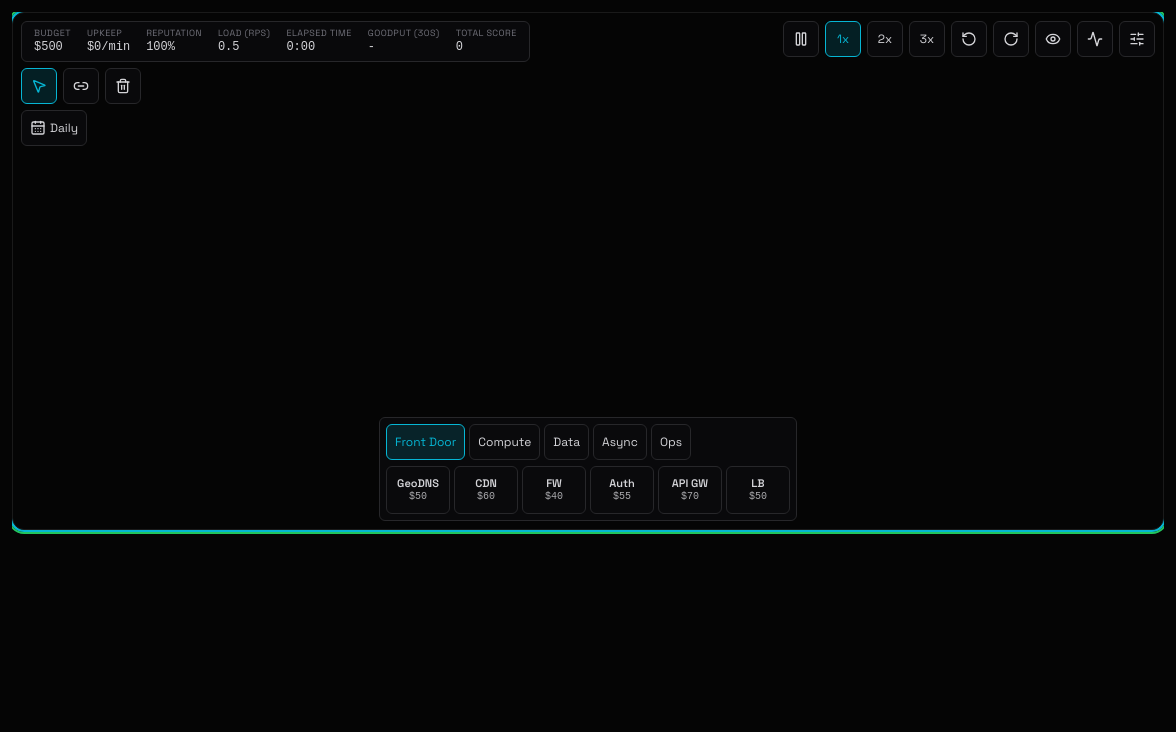
Test: Sandbox › starts from Settings with the Sandbox budget, labelled, and with no score
Click the button named "Settings" at (1137, 39), box [1119,21,1155,57]
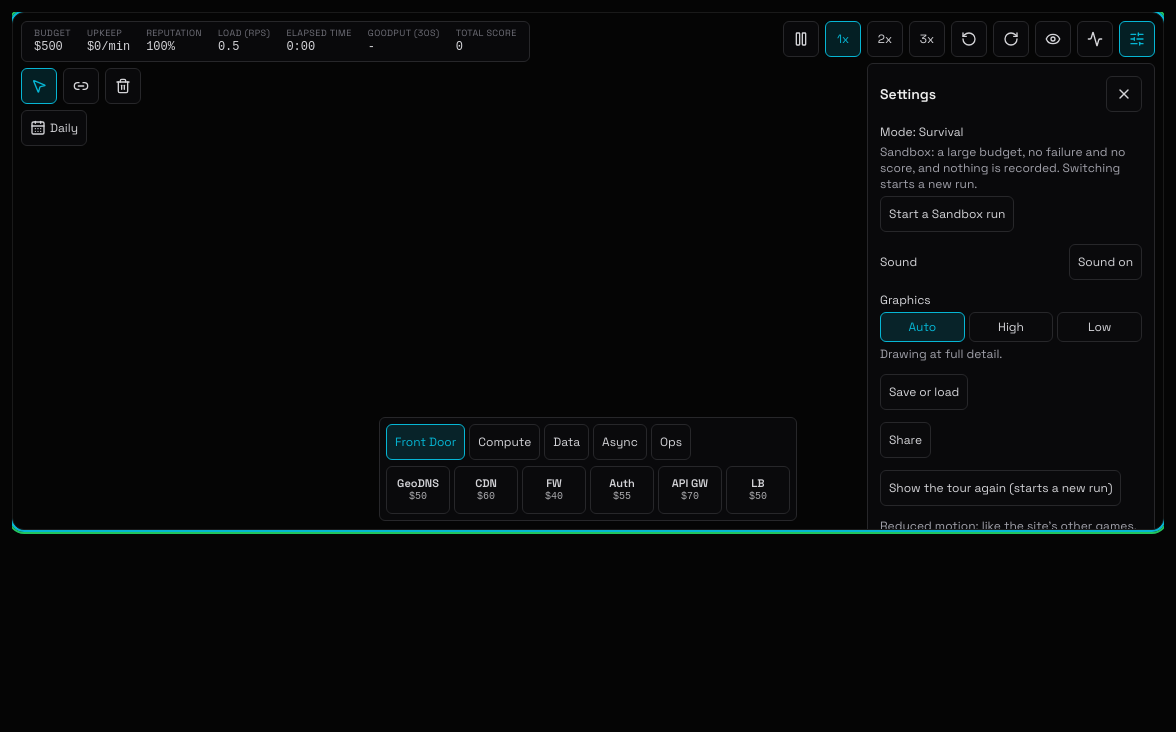
Click the button "Start a Sandbox run" at (947, 214), box [880,196,1014,232]
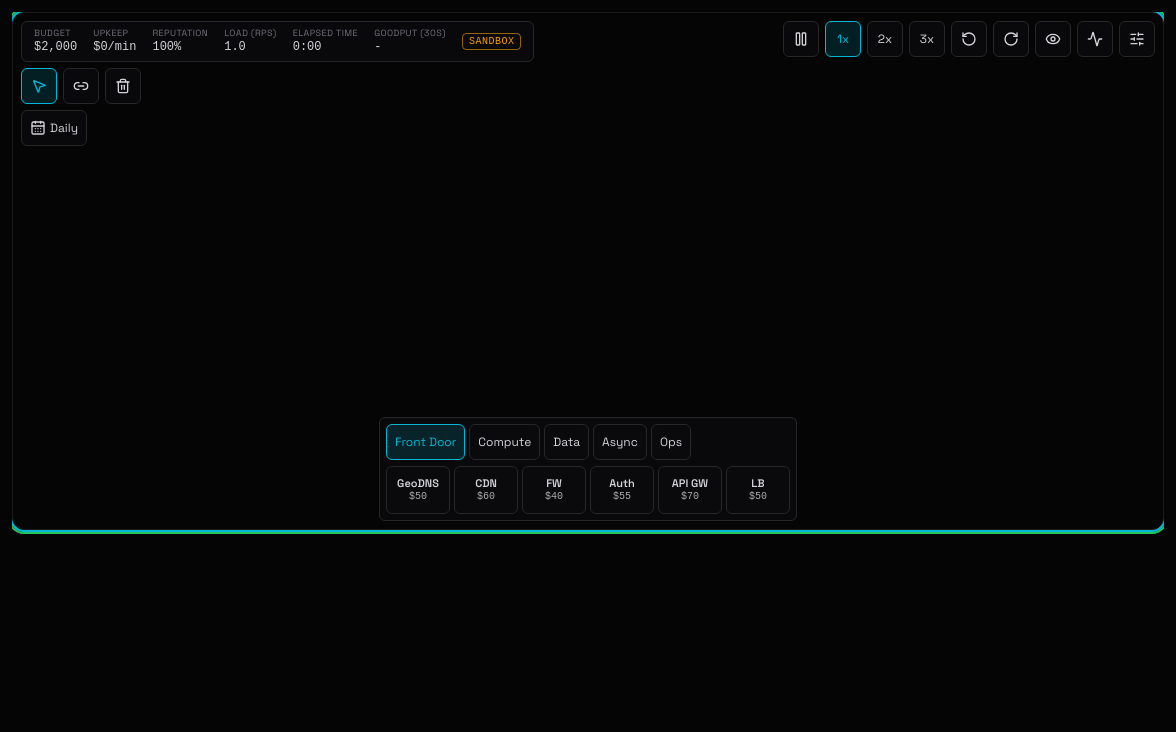
Expected: the text "SANDBOX" is shown, [462,33,522,50]
Expected: the heading "Settings" is gone
Expected: the text "TOTAL SCORE" is gone
Click the button named "Settings" at (1137, 39), box [1119,21,1155,57]
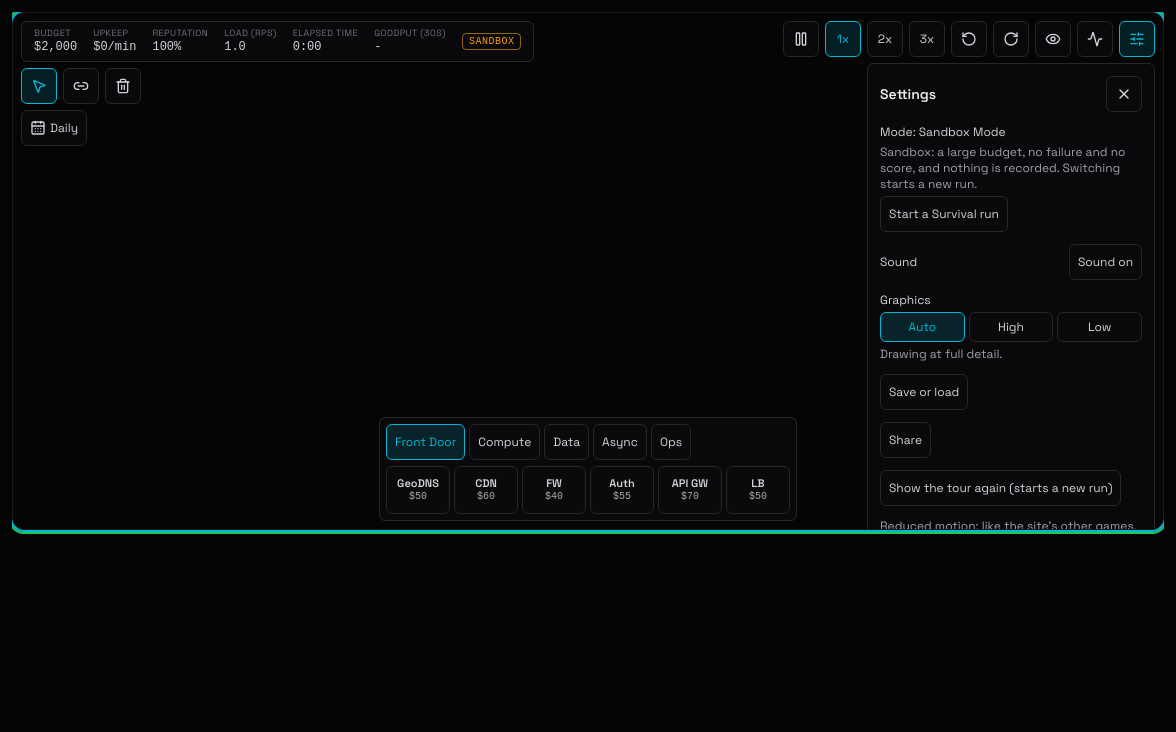
Click the button "Start a Survival run" at (944, 214), box [880,196,1008,232]
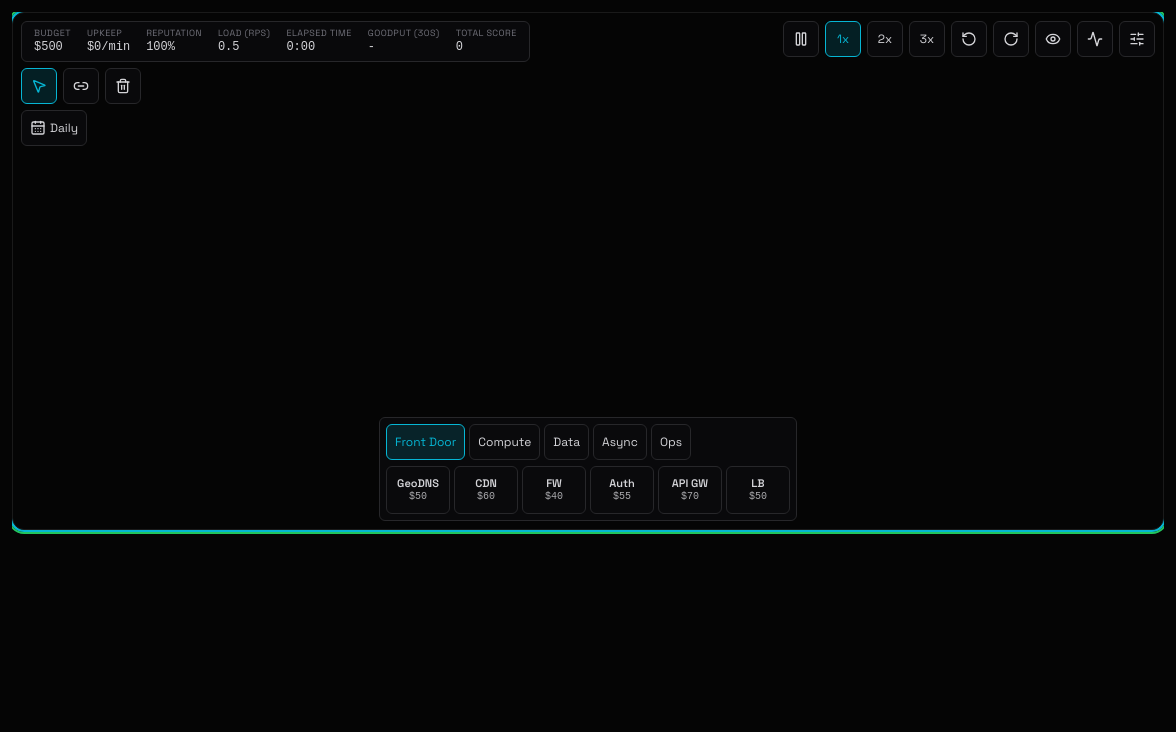
Expected: the text "SANDBOX" is gone
